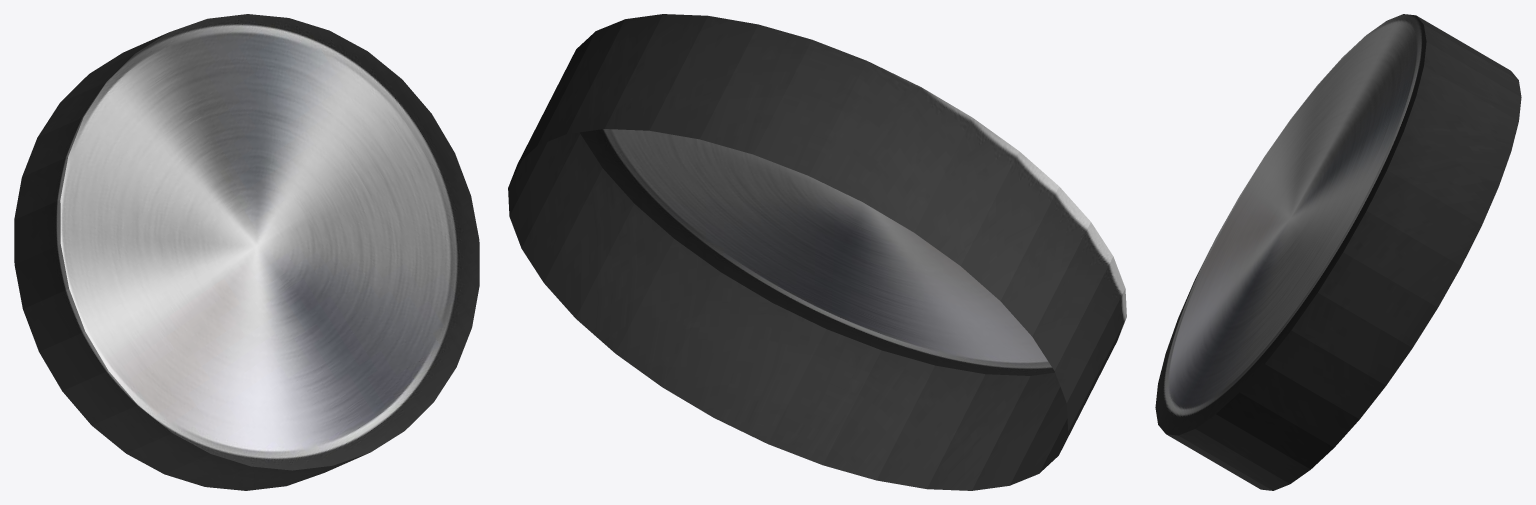
Rendered from arrow-left2.gltf.
The picture shows the model from 3 angles, left to right: view 1: azimuth 30°, elevation 25°; view 2: azimuth 150°, elevation 25°; view 3: azimuth 270°, elevation 25°; orthographic projection. The views are drawn at different scales.
Parts seen in each view (by area): view 1: Circle.001; view 2: Circle.001; view 3: Circle.001.
Boxes of the visible parts, <box> form: Circle.001: <box>14,14,479,490</box>; Circle.001: <box>508,14,1126,490</box>; Circle.001: <box>1155,14,1521,490</box>.
Size of the model in its own units: 0.3449 by 0.3308 by 0.2589.
1 material, 1 textured.
